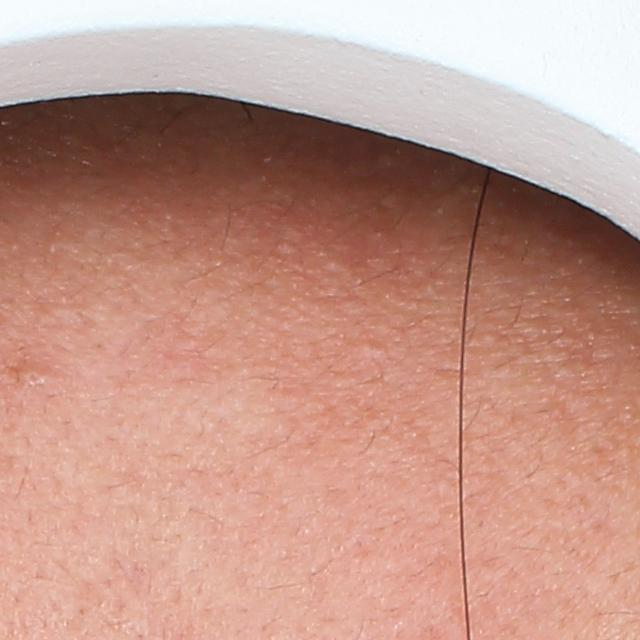comedo: (18, 366, 50, 391)
